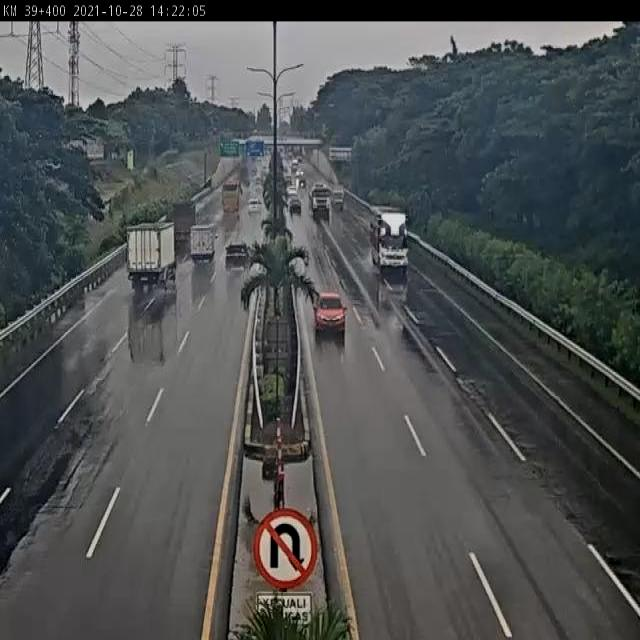Bus: (368, 204, 410, 272)
Car: (311, 292, 351, 342), (224, 242, 252, 275), (246, 195, 262, 218), (288, 196, 302, 218)
Truck: (126, 222, 178, 296), (171, 198, 199, 250), (191, 223, 217, 270), (307, 180, 332, 218), (221, 180, 242, 219), (331, 183, 349, 213)
